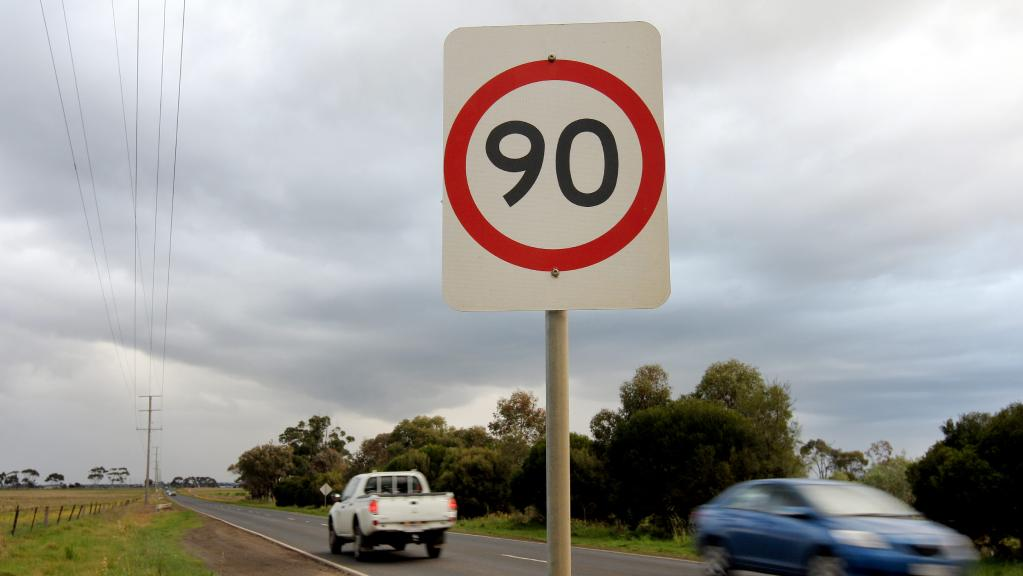Speed_limit_90km: (442, 59, 667, 269)
car: (315, 468, 464, 563)
